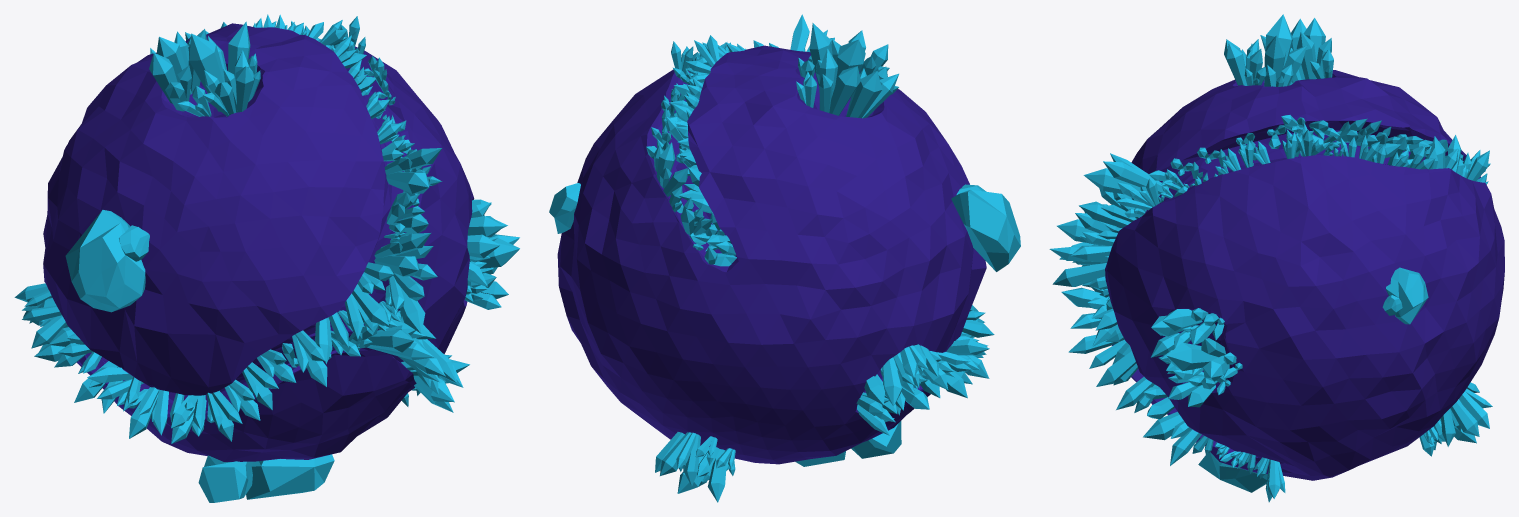
Rendered from crystal_planet.glb.
3 views of the same model, side by side, from view 1: azimuth 30°, elevation 25°; view 2: azimuth 150°, elevation 25°; view 3: azimuth 270°, elevation 25° (orthographic). The views are drawn at different scales.
Parts seen in each view (by area): view 1: CrystalPlanet; view 2: CrystalPlanet; view 3: CrystalPlanet.
Part boxes in pixels (x1=…): CrystalPlanet: x1=14, y1=14, x2=519, y2=502; CrystalPlanet: x1=549, y1=14, x2=1020, y2=502; CrystalPlanet: x1=1049, y1=14, x2=1504, y2=502.
Size of the model in its own units: 2.31 by 2.42 by 2.27.
